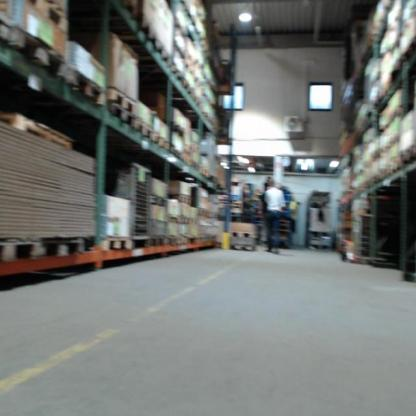pallet: (10, 22, 69, 82), (68, 67, 107, 107), (39, 236, 87, 259), (0, 239, 39, 265), (108, 86, 137, 116), (106, 101, 136, 130), (102, 233, 131, 252), (135, 119, 153, 140), (152, 133, 170, 153), (229, 230, 256, 239), (230, 244, 255, 252), (148, 236, 165, 247)
pallet_truck: (340, 157, 364, 265)
stillage: (116, 152, 156, 253), (352, 207, 381, 267)
